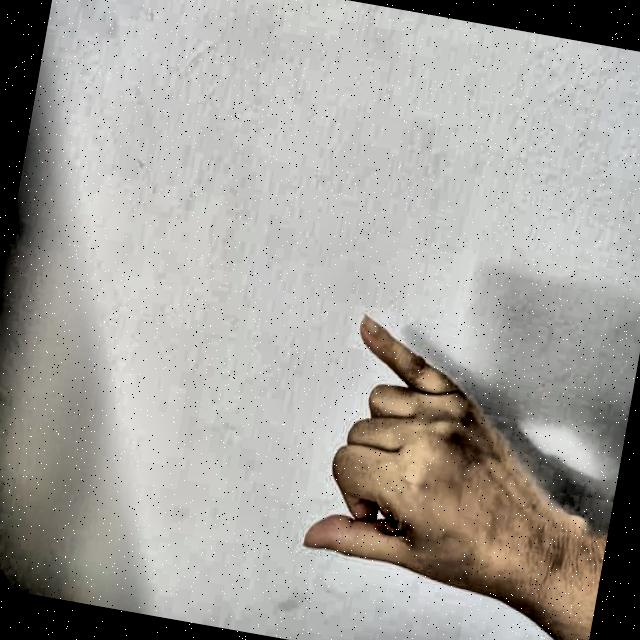Oi: (259, 281, 577, 632)
